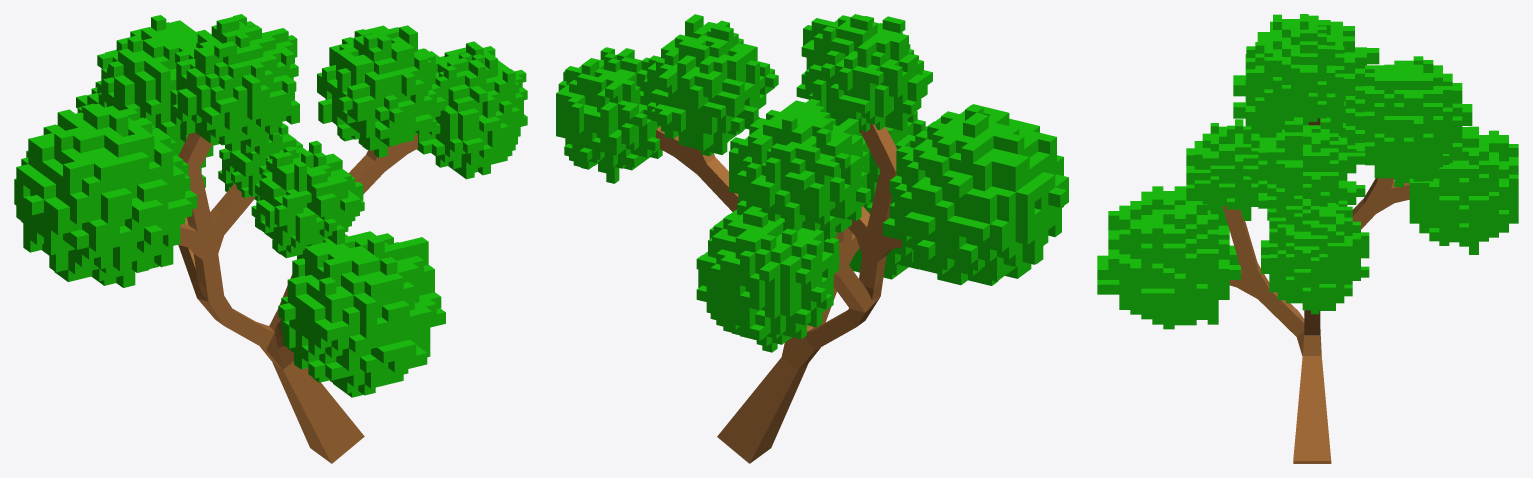
Rendered from Arbol.fbx.
The picture shows the model from 3 angles, left to right: view 1: azimuth 30°, elevation 25°; view 2: azimuth 150°, elevation 25°; view 3: azimuth 270°, elevation 25°; orthographic projection. The views are drawn at different scales.
Visible parts, largest first — view 1: Ramas, Arbol; view 2: Ramas, Arbol; view 3: Ramas, Arbol.
Part boxes in pixels (<box>): Ramas: <box>14,14,527,397</box>; Arbol: <box>178,132,417,463</box>; Ramas: <box>556,14,1068,352</box>; Arbol: <box>656,123,903,463</box>; Ramas: <box>1097,14,1518,329</box>; Arbol: <box>1222,118,1409,463</box>.
Size of the model in its own units: 109 by 96.92 by 91.53.
Materials: 2 (2 with a texture image).
